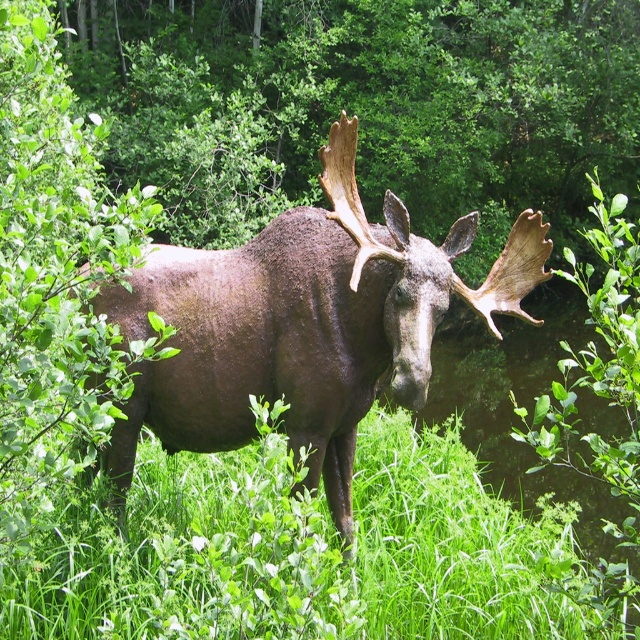Deer: (61, 109, 554, 602)
